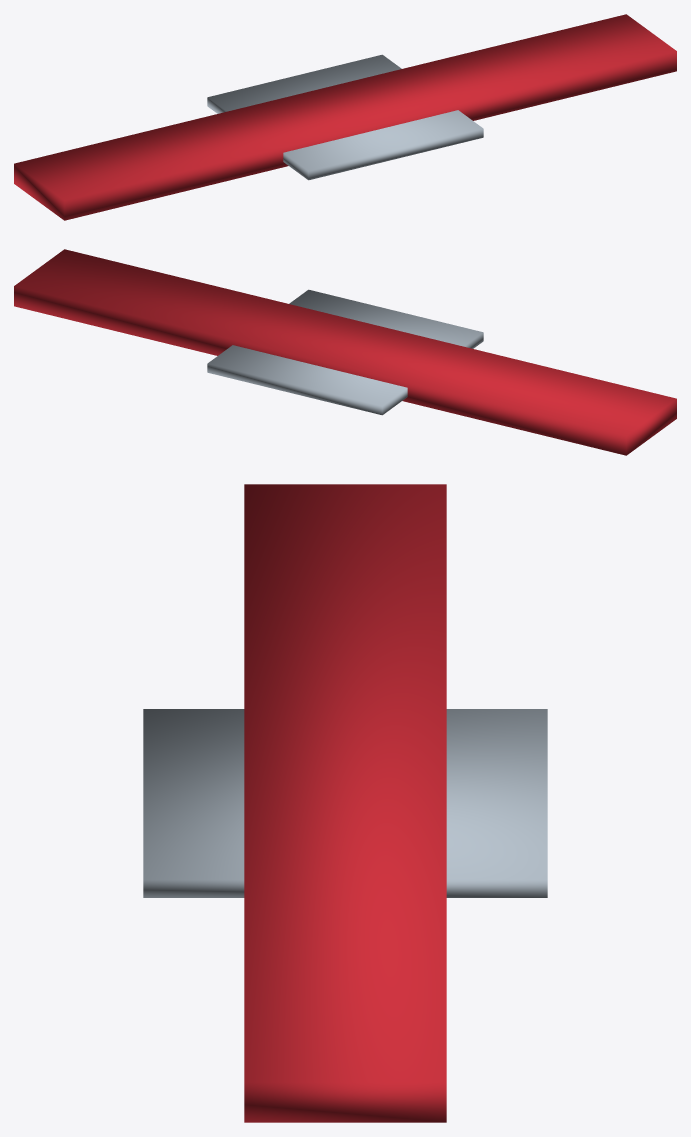
The model's file is 123_L105_Fault_Lane2_ACCap.fbx.
3 renders of one model, top to bottom at view 1: azimuth 30°, elevation 25°; view 2: azimuth 150°, elevation 25°; view 3: azimuth 270°, elevation 25°, orthographic. The views are drawn at different scales.
Parts seen in each view (by area): view 1: Fault_Lane2_ACCap_red, Fault_Lane2_ACCap_silver; view 2: Fault_Lane2_ACCap_red, Fault_Lane2_ACCap_silver; view 3: Fault_Lane2_ACCap_red, Fault_Lane2_ACCap_silver.
Boxes of the visible parts, <box> form: Fault_Lane2_ACCap_red: <box>14,14,676,220</box>; Fault_Lane2_ACCap_silver: <box>207,54,483,180</box>; Fault_Lane2_ACCap_red: <box>14,249,676,455</box>; Fault_Lane2_ACCap_silver: <box>207,289,483,415</box>; Fault_Lane2_ACCap_red: <box>244,484,446,1122</box>; Fault_Lane2_ACCap_silver: <box>143,709,547,897</box>.
Size of the model in its own units: 0.007 by 0.00022 by 0.002.
